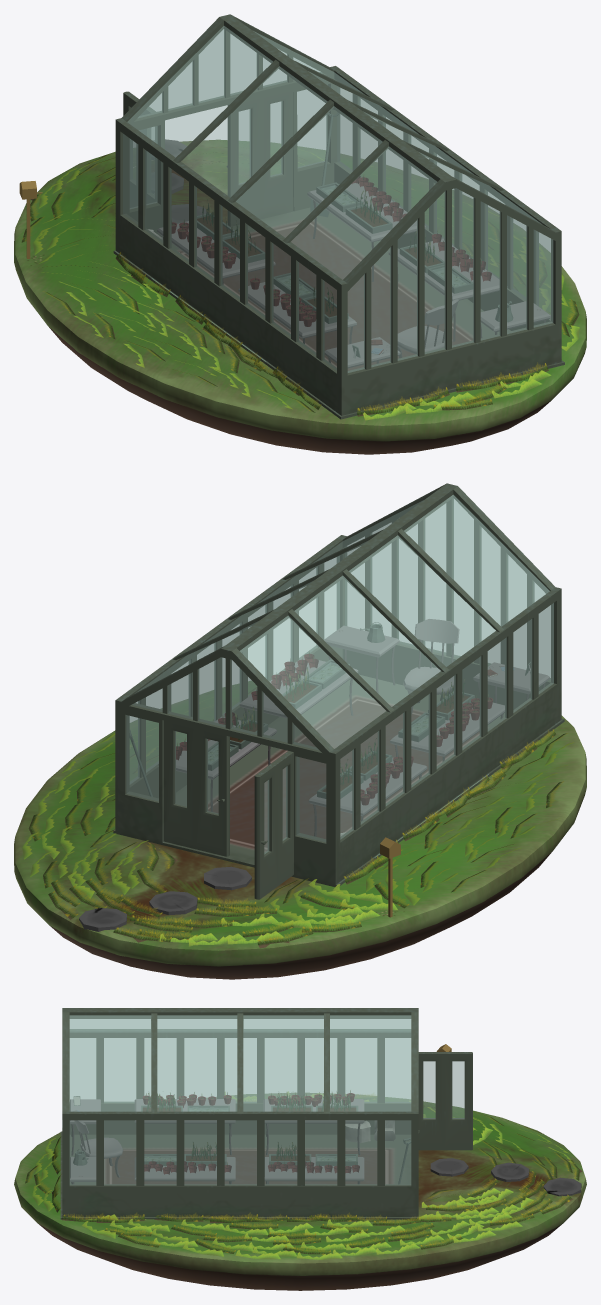
3 views of the same model, one above another, from view 1: azimuth 30°, elevation 25°; view 2: azimuth 150°, elevation 25°; view 3: azimuth 270°, elevation 25° (orthographic). The views are drawn at different scales.
Visible parts, largest first — view 1: Greenhouse; view 2: Greenhouse; view 3: Greenhouse.
Boxes of the visible parts, left/top/right/bottom form: Greenhouse: left=14, top=14, right=586, bottom=454; Greenhouse: left=14, top=483, right=586, bottom=979; Greenhouse: left=14, top=1008, right=586, bottom=1290.
Bounding box in the file's own units: 8.33 × 5.25 × 11.75.
4 materials, 4 textured.
